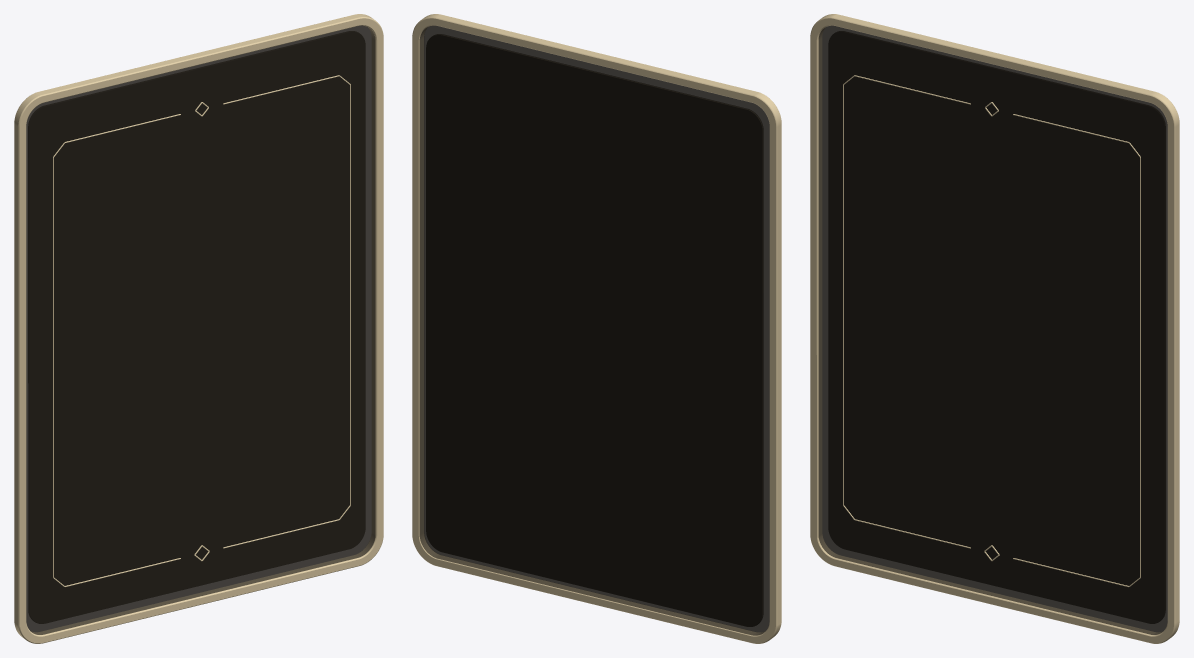
File: luxury_gallery_card_shell.glb
3 views of the same model, side by side, from view 1: azimuth 30°, elevation 25°; view 2: azimuth 150°, elevation 25°; view 3: azimuth 330°, elevation 25° (orthographic).
Visible parts, largest first — view 1: LuxuryCard_BodyGlass, LuxuryCard_BackPlate, LuxuryCard_OuterGoldFrame, LuxuryCard_InnerGoldLine; view 2: LuxuryCard_BackPlate, LuxuryCard_OuterGoldFrame, LuxuryCard_BodyGlass; view 3: LuxuryCard_BodyGlass, LuxuryCard_BackPlate, LuxuryCard_OuterGoldFrame, LuxuryCard_InnerGoldLine.
Boxes of the visible parts, <box> form: LuxuryCard_BodyGlass: <box>26,25,375,634</box>; LuxuryCard_BackPlate: <box>28,31,365,623</box>; LuxuryCard_OuterGoldFrame: <box>14,14,383,643</box>; LuxuryCard_InnerGoldLine: <box>53,75,350,586</box>; LuxuryCard_BackPlate: <box>426,34,763,626</box>; LuxuryCard_OuterGoldFrame: <box>412,14,781,643</box>; LuxuryCard_BodyGlass: <box>419,25,769,635</box>; LuxuryCard_BodyGlass: <box>818,25,1167,634</box>; LuxuryCard_BackPlate: <box>828,31,1165,623</box>; LuxuryCard_OuterGoldFrame: <box>810,14,1179,643</box>; LuxuryCard_InnerGoldLine: <box>843,75,1140,586</box>.
Size of the model in its own units: 3.1 by 4.45 by 0.088.
